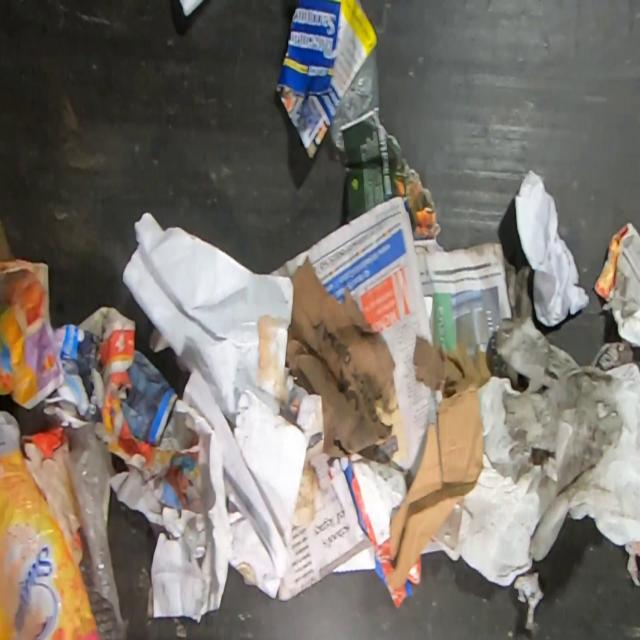soft_plastic: (0, 410, 101, 640), (386, 380, 484, 589), (328, 451, 422, 609), (64, 418, 130, 640), (328, 47, 380, 152)
